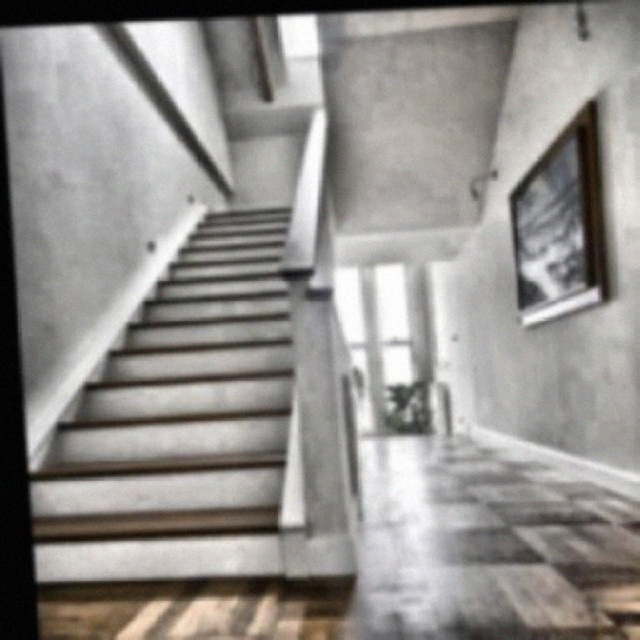stair: (8, 149, 342, 532)
